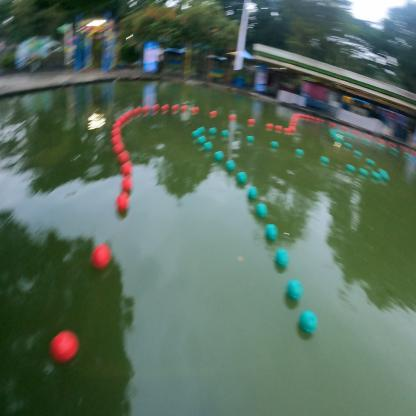green_buoy: (297, 309, 317, 339), (287, 278, 302, 306), (276, 249, 288, 267), (266, 222, 276, 242), (257, 204, 267, 216), (215, 150, 223, 163), (238, 172, 246, 185), (227, 159, 235, 171), (249, 186, 257, 198), (206, 141, 212, 155), (199, 136, 206, 146), (193, 129, 199, 140)
red_buoy: (52, 330, 78, 367), (91, 244, 111, 269), (115, 193, 128, 217), (123, 176, 132, 195), (118, 152, 129, 165), (122, 162, 132, 176)
